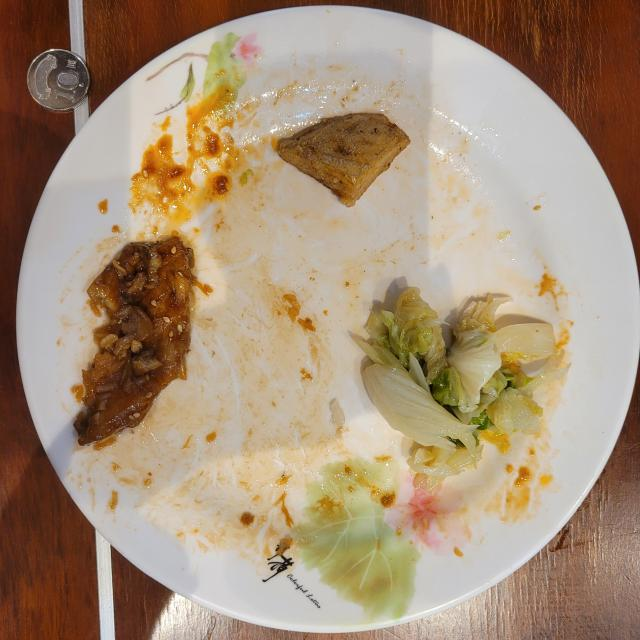Kabayaki sea bream fillet: (74, 238, 195, 445)
cabbage: (354, 288, 568, 486)
coin: (28, 49, 90, 111)
fried potato: (276, 112, 410, 206)
